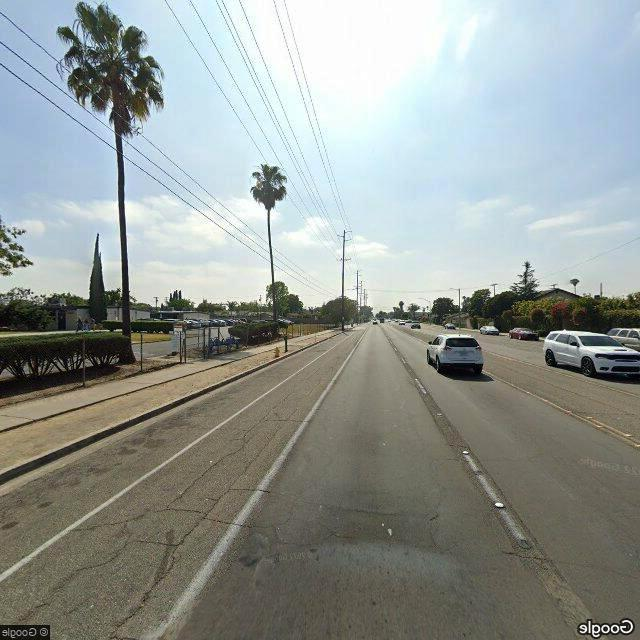crack: (40, 409, 302, 632)
